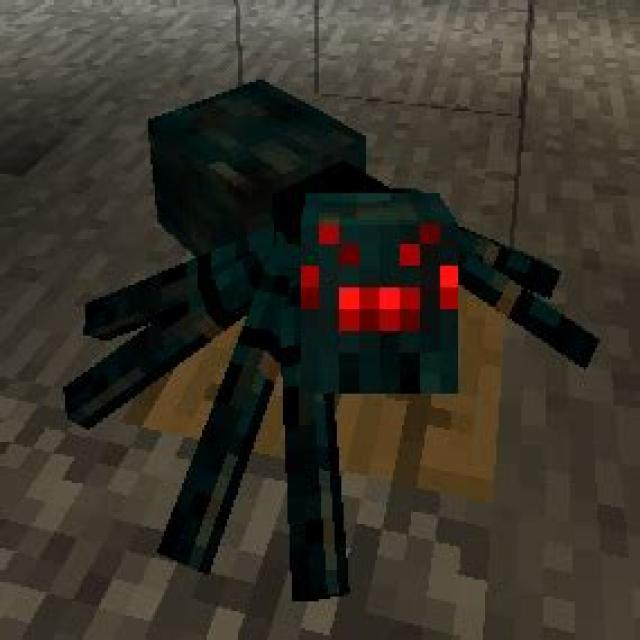Cave Spider: (51, 71, 608, 627)
